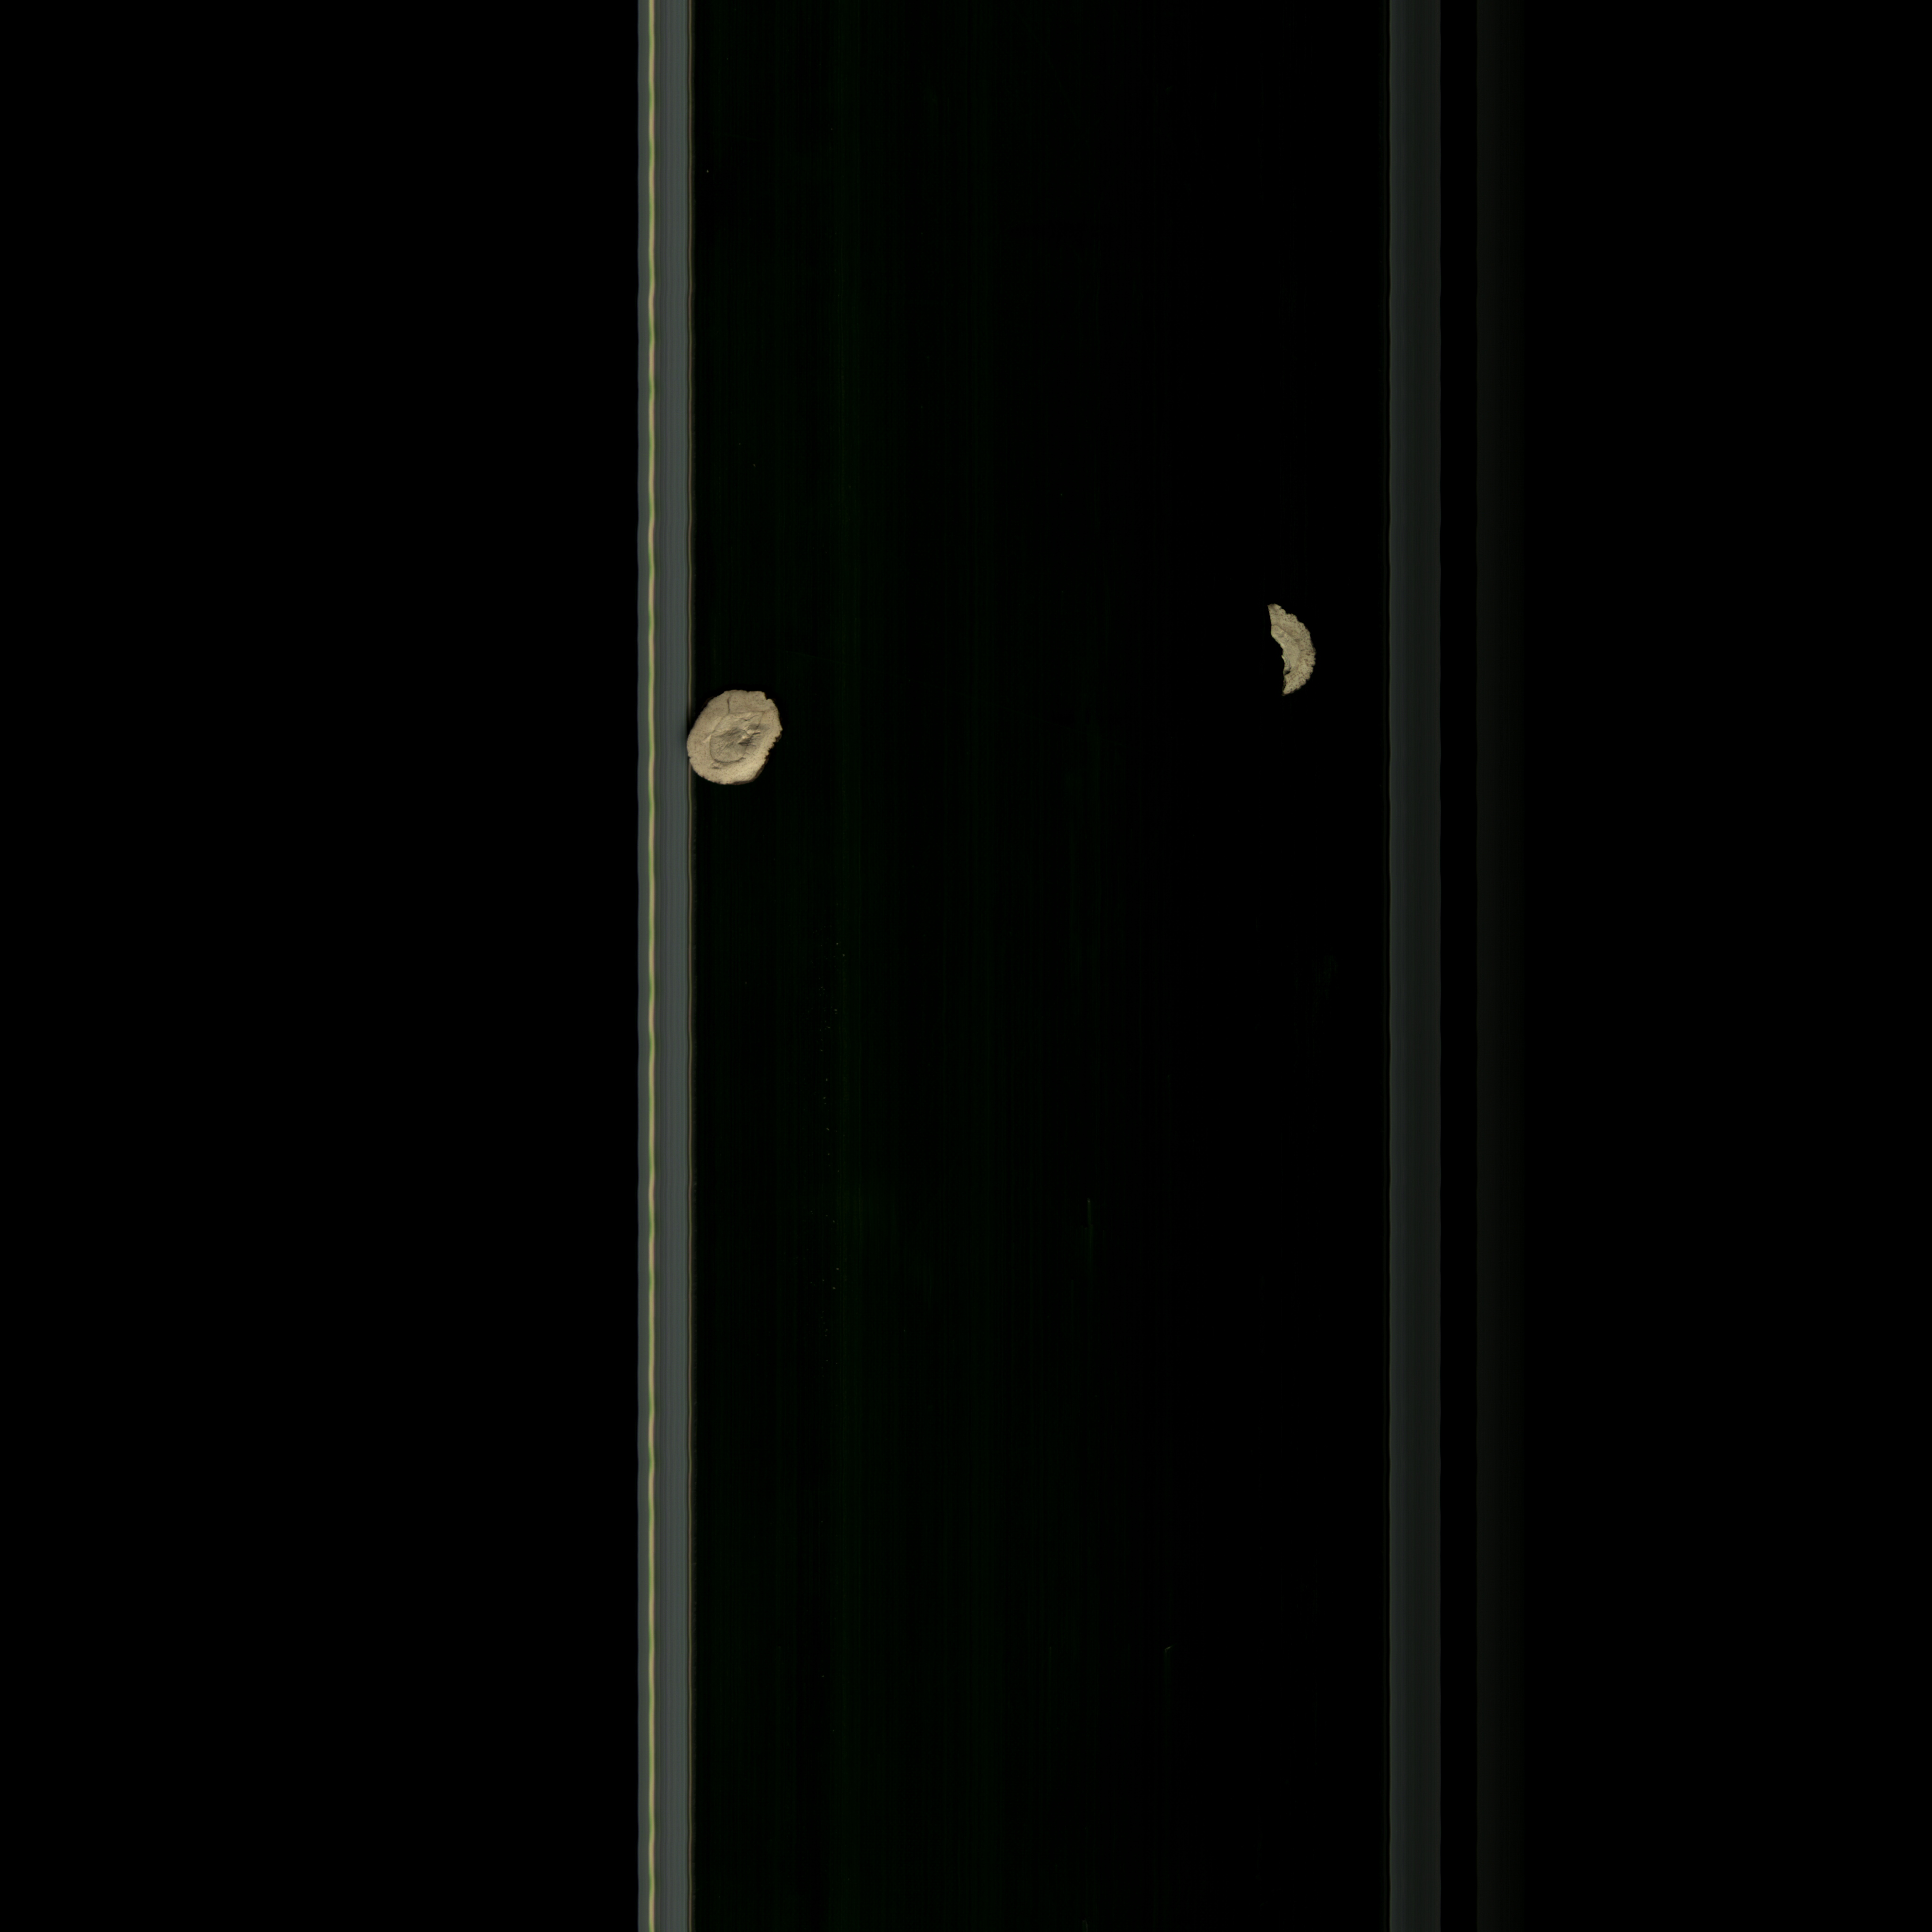debris: (1261, 589, 1322, 708)
moldy: (683, 683, 800, 800)
